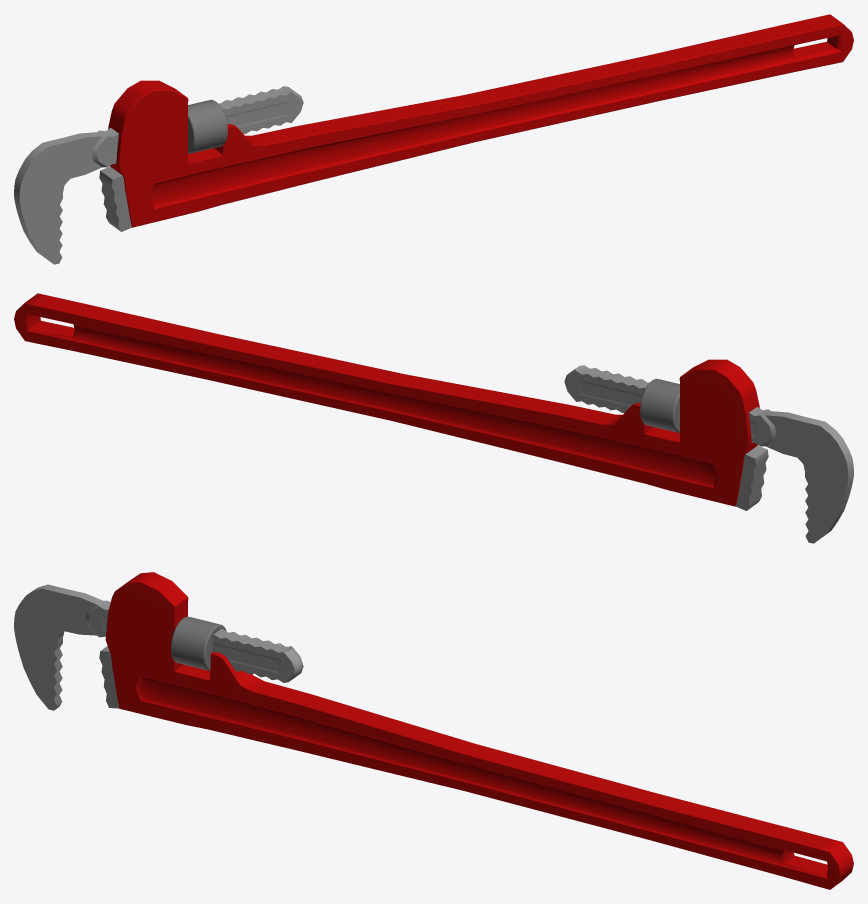
Rendered from wrench_high.fbx.
The picture shows the model from 3 angles, top to bottom: view 1: azimuth 30°, elevation 25°; view 2: azimuth 150°, elevation 25°; view 3: azimuth 330°, elevation 25°; orthographic projection.
Visible parts, largest first — view 1: handle, clamp, clampHolder, clamp_Pad; view 2: handle, clamp, clampHolder, clamp_Pad; view 3: handle, clamp, clampHolder, clamp_Pad.
Boxes of the visible parts, box(x1,y1,x2,y2) form: handle: box(108, 14, 853, 227); clamp: box(14, 86, 303, 264); clampHolder: box(188, 99, 227, 153); clamp_Pad: box(99, 166, 131, 231); handle: box(14, 293, 759, 506); clamp: box(564, 365, 853, 543); clampHolder: box(640, 378, 679, 432); clamp_Pad: box(736, 445, 768, 510); handle: box(105, 572, 853, 889); clamp: box(14, 584, 303, 710); clampHolder: box(171, 616, 226, 670); clamp_Pad: box(99, 646, 119, 708).
Bounding box in the file's own units: 5.78 × 1.03 × 0.2905.
